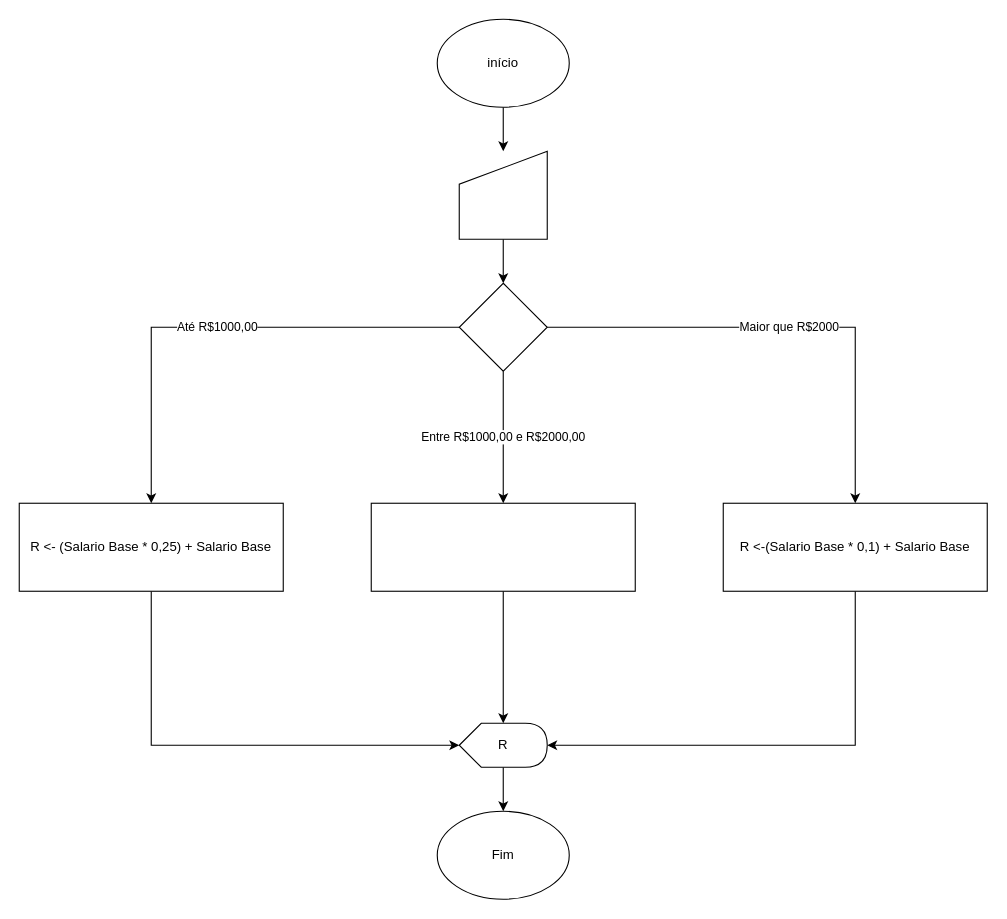
Image size: 1007x919. Some labels were removed from this diagram. The centre of each missing label's shape, as x and y in pixels:
R <- (Salario Base * 0,15) + Salario Base: [502,546]
salário Base: [502,194]
